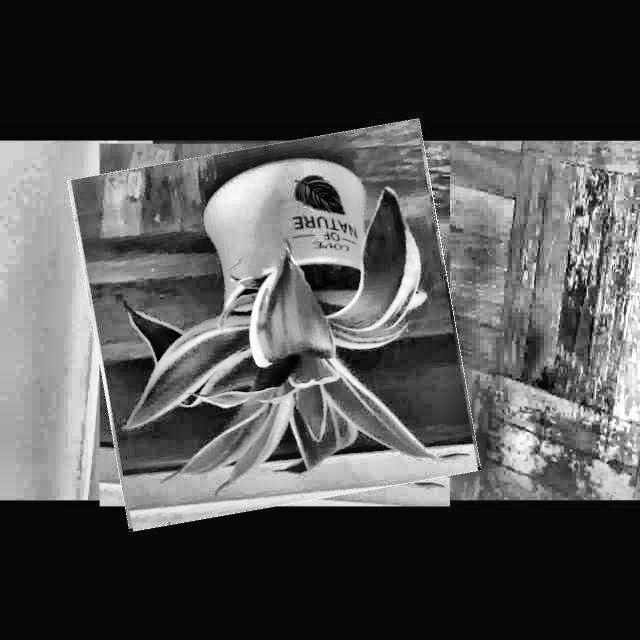plants: (82, 132, 467, 517)
